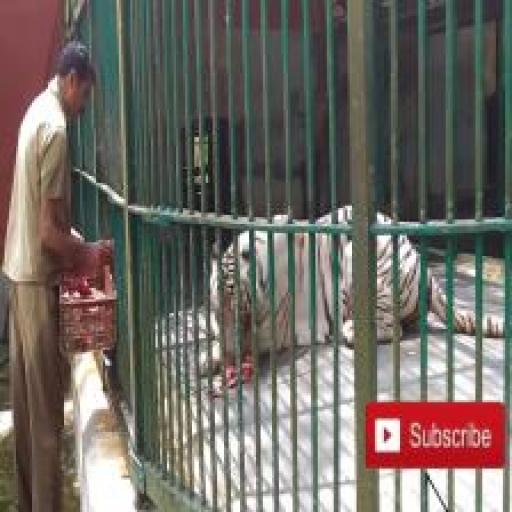Tiger: (199, 206, 512, 376)
